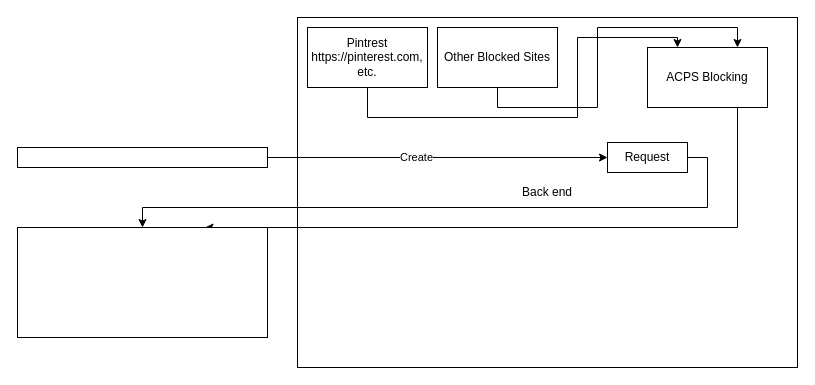
The diagram is 815 pixels wide and 385 high, and some of its shapes have lost their labels. Each missing label, with the centre of its shape:
"Output / Blocked" belongs at (x=142, y=282).
"Uniform Resource Locator Bar" belongs at (x=142, y=157).
